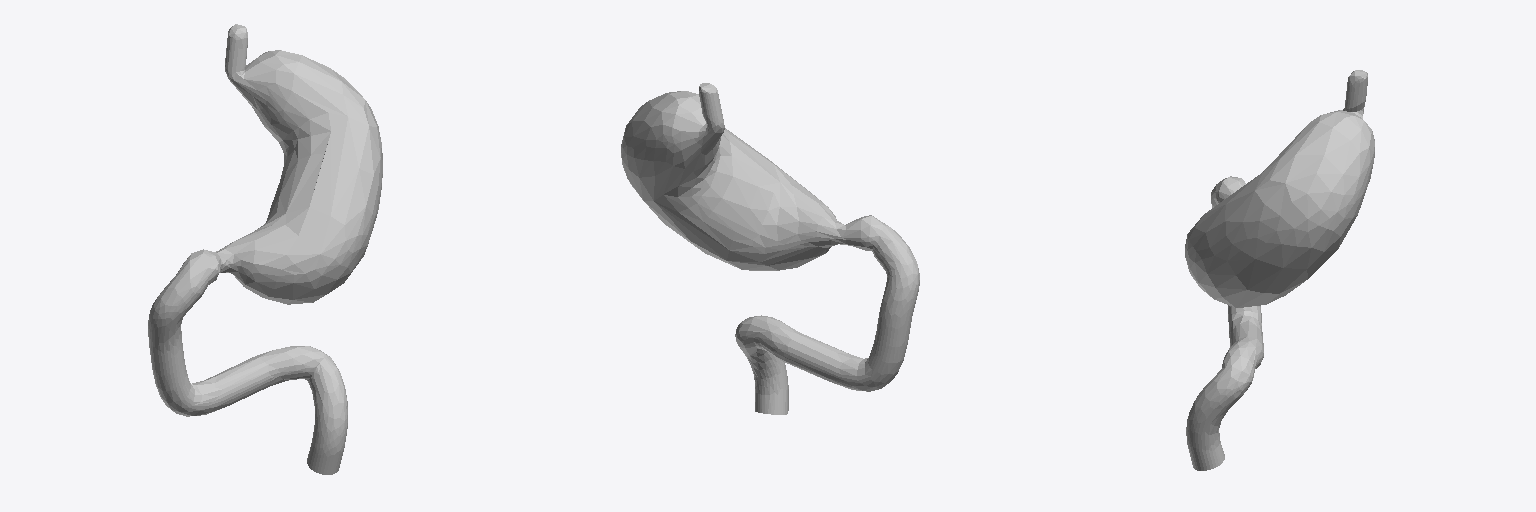
File: Stomach.obj
The picture shows the model from 3 angles: view 1: azimuth 30°, elevation 25°; view 2: azimuth 150°, elevation 25°; view 3: azimuth 270°, elevation 25°; orthographic projection.
Parts seen in each view (by area): view 1: SEROZA.000_Cylinder.001; view 2: SEROZA.000_Cylinder.001; view 3: SEROZA.000_Cylinder.001.
Boxes of the visible parts, x1=… form: SEROZA.000_Cylinder.001: x1=148, y1=24, x2=382, y2=474; SEROZA.000_Cylinder.001: x1=621, y1=83, x2=919, y2=414; SEROZA.000_Cylinder.001: x1=1185, y1=70, x2=1374, y2=470.
Bounding box in the file's own units: 17.53 × 25.74 × 11.4.